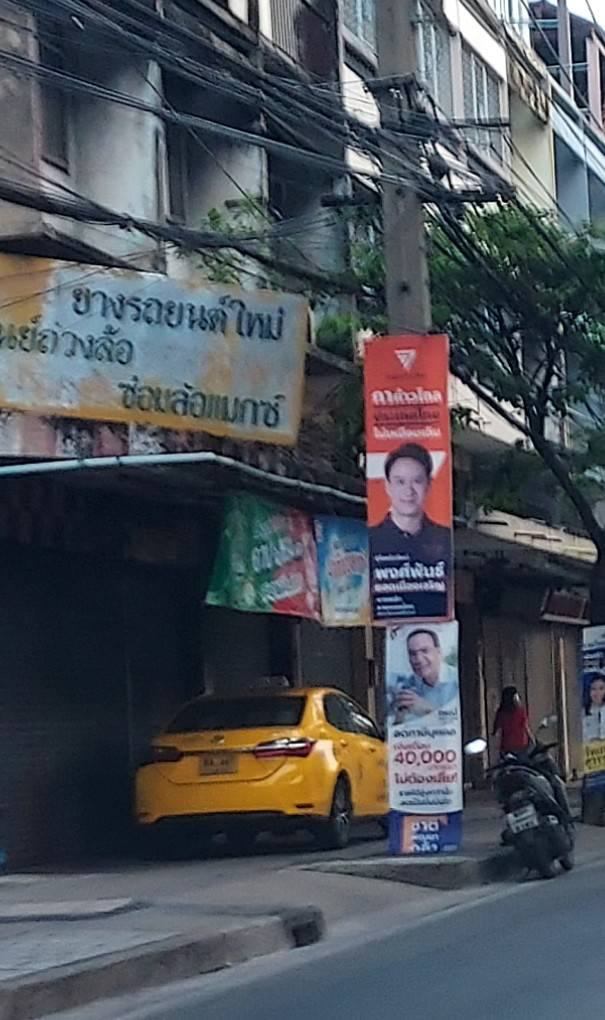Banner: (366, 334, 451, 623), (381, 626, 462, 812)
